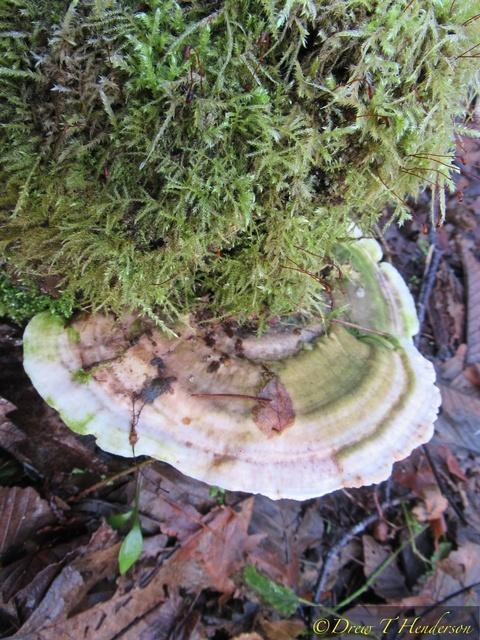poisonous_mushroom: (20, 227, 443, 502)
